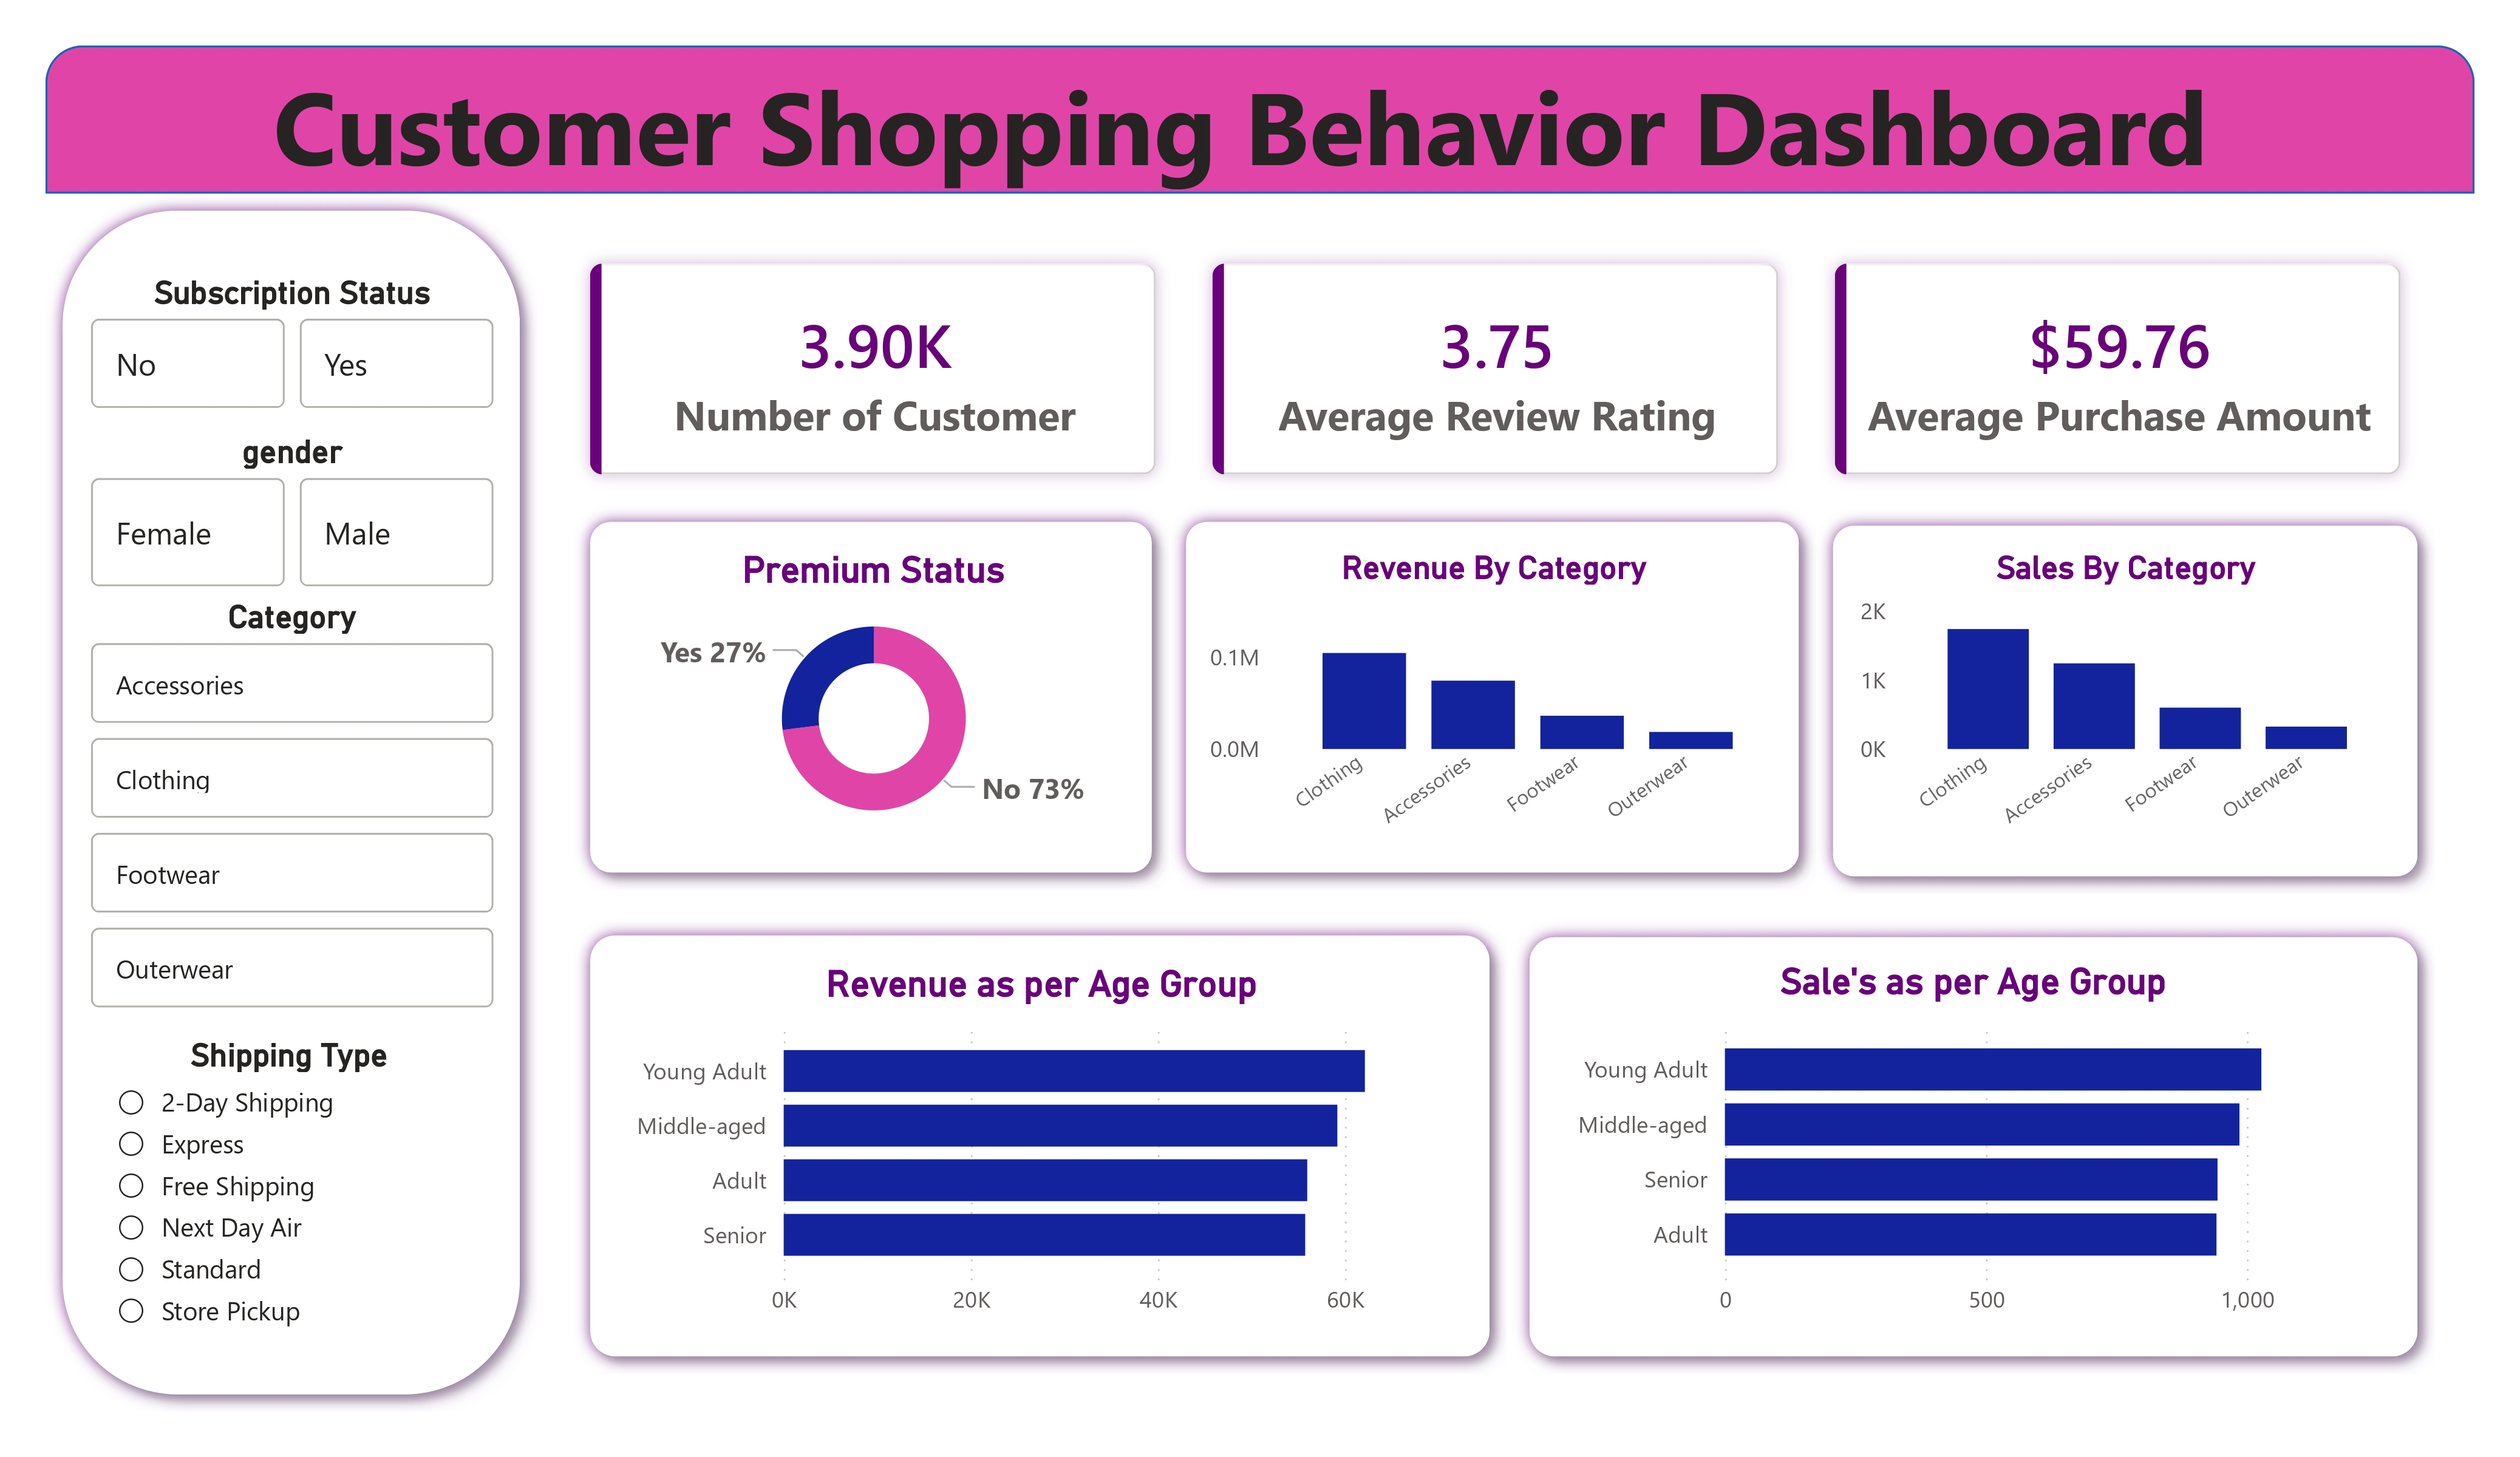

The dashboard page shown, as its layout file describes it:
{"tool":"powerbi","page":{"name":"Page 1","canvas":[1280,720],"ordinal":0},"visuals":[{"type":"cardVisual","fields":{"Data":["public customer.Number of Customer","public customer.Average Review Rating","public customer.Average Purchase Amount"]},"box":[258.6,87.1,1010,167.1],"z":0},{"type":"shape","box":[0,0,1280.2,77.9],"z":1000},{"type":"textbox","box":[18.6,0,1207,87.2],"z":2000},{"type":"shape","box":[277.7,242.3,314.3,202.9],"z":3000},{"type":"donutChart","title":"Premium Status","fields":{"Category":["public customer.subscription_status"],"Y":["CountNonNull(public customer.customer_id)"]},"box":[302,265.1,268.6,157.1],"z":4000},{"type":"shape","box":[592,242.3,341.4,202.9],"z":5000},{"type":"shape","box":[933.4,243.7,325.7,202.9],"z":6000},{"type":"clusteredColumnChart","title":"Revenue By Category","fields":{"Y":["Sum(public customer.purchase_amount)"],"Category":["public customer.category"]},"box":[607.7,265.1,311.4,157.1],"z":7000},{"type":"clusteredColumnChart","title":"Sales By Category","fields":{"Category":["public customer.category"],"Y":["CountNonNull(public customer.customer_id)"]},"box":[950.6,265.1,291.4,157.1],"z":8000},{"type":"shape","box":[0,78,259,642],"z":9000},{"type":"advancedSlicerVisual","fields":{"Values":["public customer.subscription_status"]},"box":[19,120,222,77],"z":10000},{"type":"advancedSlicerVisual","fields":{"Values":["public customer.gender"]},"box":[19,204,222,87],"z":11000},{"type":"advancedSlicerVisual","fields":{"Values":["public customer.category"]},"box":[19,291,222,222],"z":12000},{"type":"listSlicer","fields":{"Values":["public customer.shipping_type"]},"box":[31.4,522.1,194.2,164],"z":13000},{"type":"shape","box":[277.9,460.5,491.9,239.5],"z":15000},{"type":"clusteredBarChart","title":"Revenue as per Age Group","fields":{"Y":["Sum(public customer.purchase_amount)"],"Category":["public customer.age_group"]},"box":[300.5,482.8,448,196.2],"z":15500},{"type":"shape","box":[773,461,486,239],"z":16000},{"type":"clusteredBarChart","title":"Sale''s as per Age Group","fields":{"Y":["CountNonNull(public customer.customer_id)"],"Category":["public customer.age_group"]},"box":[797,482,438,197],"z":17000}]}

Visuals, with their boxes on the page's 1280x720 design canvas (x1, y1, x2, y2). These are canvas units, not pixel positions in the 2520x1457 screenshot, which may show the page scaled, cropped or inside an application window:
cardVisual - public customer.Number of Customer x public customer.Average Review Rating: rect(259, 87, 1269, 254)
shape: rect(0, 0, 1280, 78)
textbox: rect(19, 0, 1226, 87)
shape: rect(278, 242, 592, 445)
"Premium Status" donutChart: rect(302, 265, 571, 422)
shape: rect(592, 242, 933, 445)
shape: rect(933, 244, 1259, 447)
"Revenue By Category" clusteredColumnChart: rect(608, 265, 919, 422)
"Sales By Category" clusteredColumnChart: rect(951, 265, 1242, 422)
shape: rect(0, 78, 259, 720)
advancedSlicerVisual - public customer.subscription_status: rect(19, 120, 241, 197)
advancedSlicerVisual - public customer.gender: rect(19, 204, 241, 291)
advancedSlicerVisual - public customer.category: rect(19, 291, 241, 513)
listSlicer - public customer.shipping_type: rect(31, 522, 226, 686)
shape: rect(278, 460, 770, 700)
"Revenue as per Age Group" clusteredBarChart: rect(300, 483, 748, 679)
shape: rect(773, 461, 1259, 700)
"Sale''s as per Age Group" clusteredBarChart: rect(797, 482, 1235, 679)
